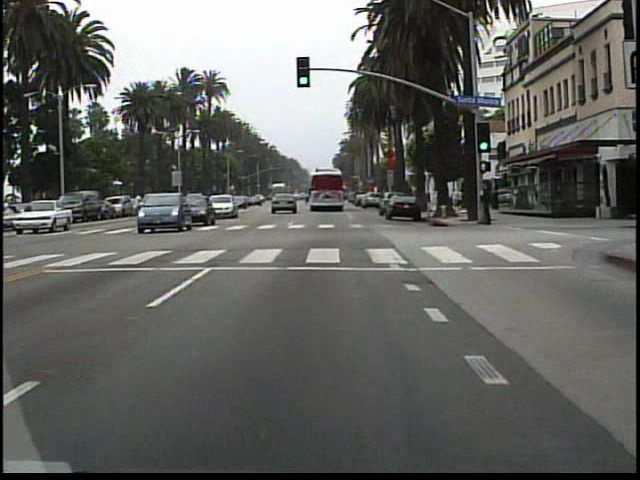person: (479, 178, 496, 229)
